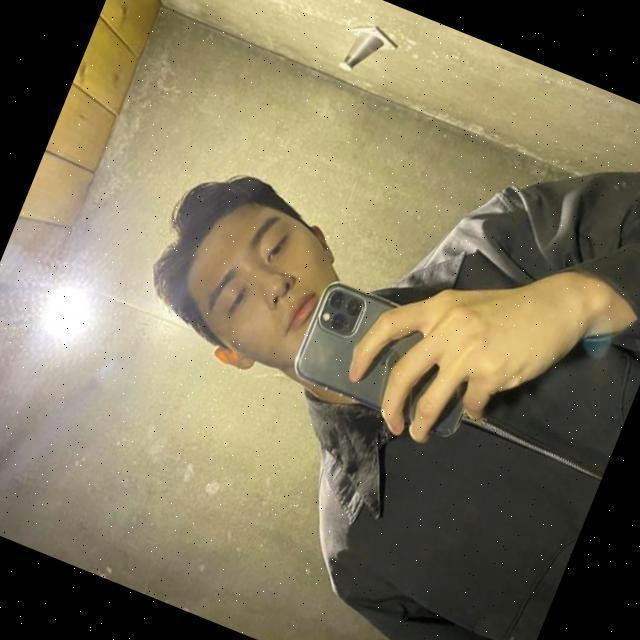phone: (288, 277, 490, 438)
